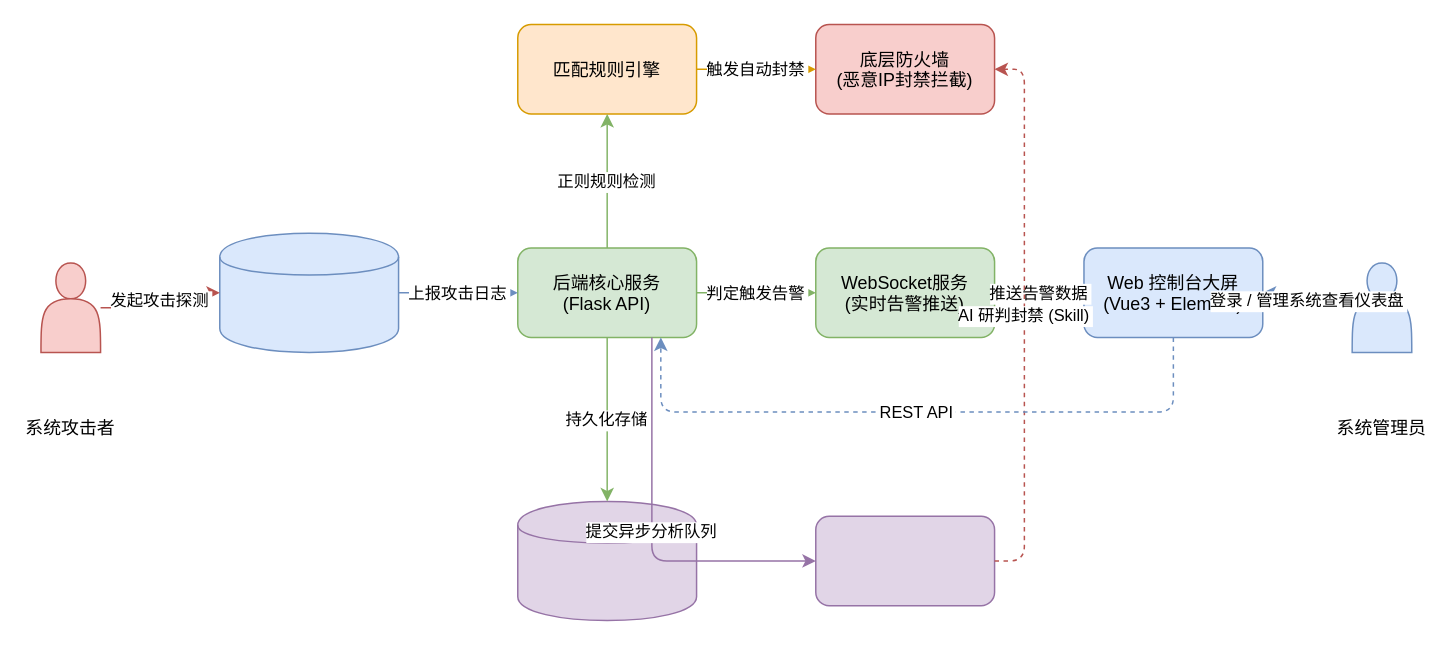
Image size: 1451x645. Some labels were removed from this diagram. The shapes that lost their labels are listed below. From the top down, each one's centre as x and y in pixels, then its label:
At (x=308, y=292): "蜜罐集群 (FTP, SSH, HTTP等)".
At (x=606, y=560): "MySQL 数据库".
At (x=904, y=560): "AI 智能分析代理 (异步任务调度)".
